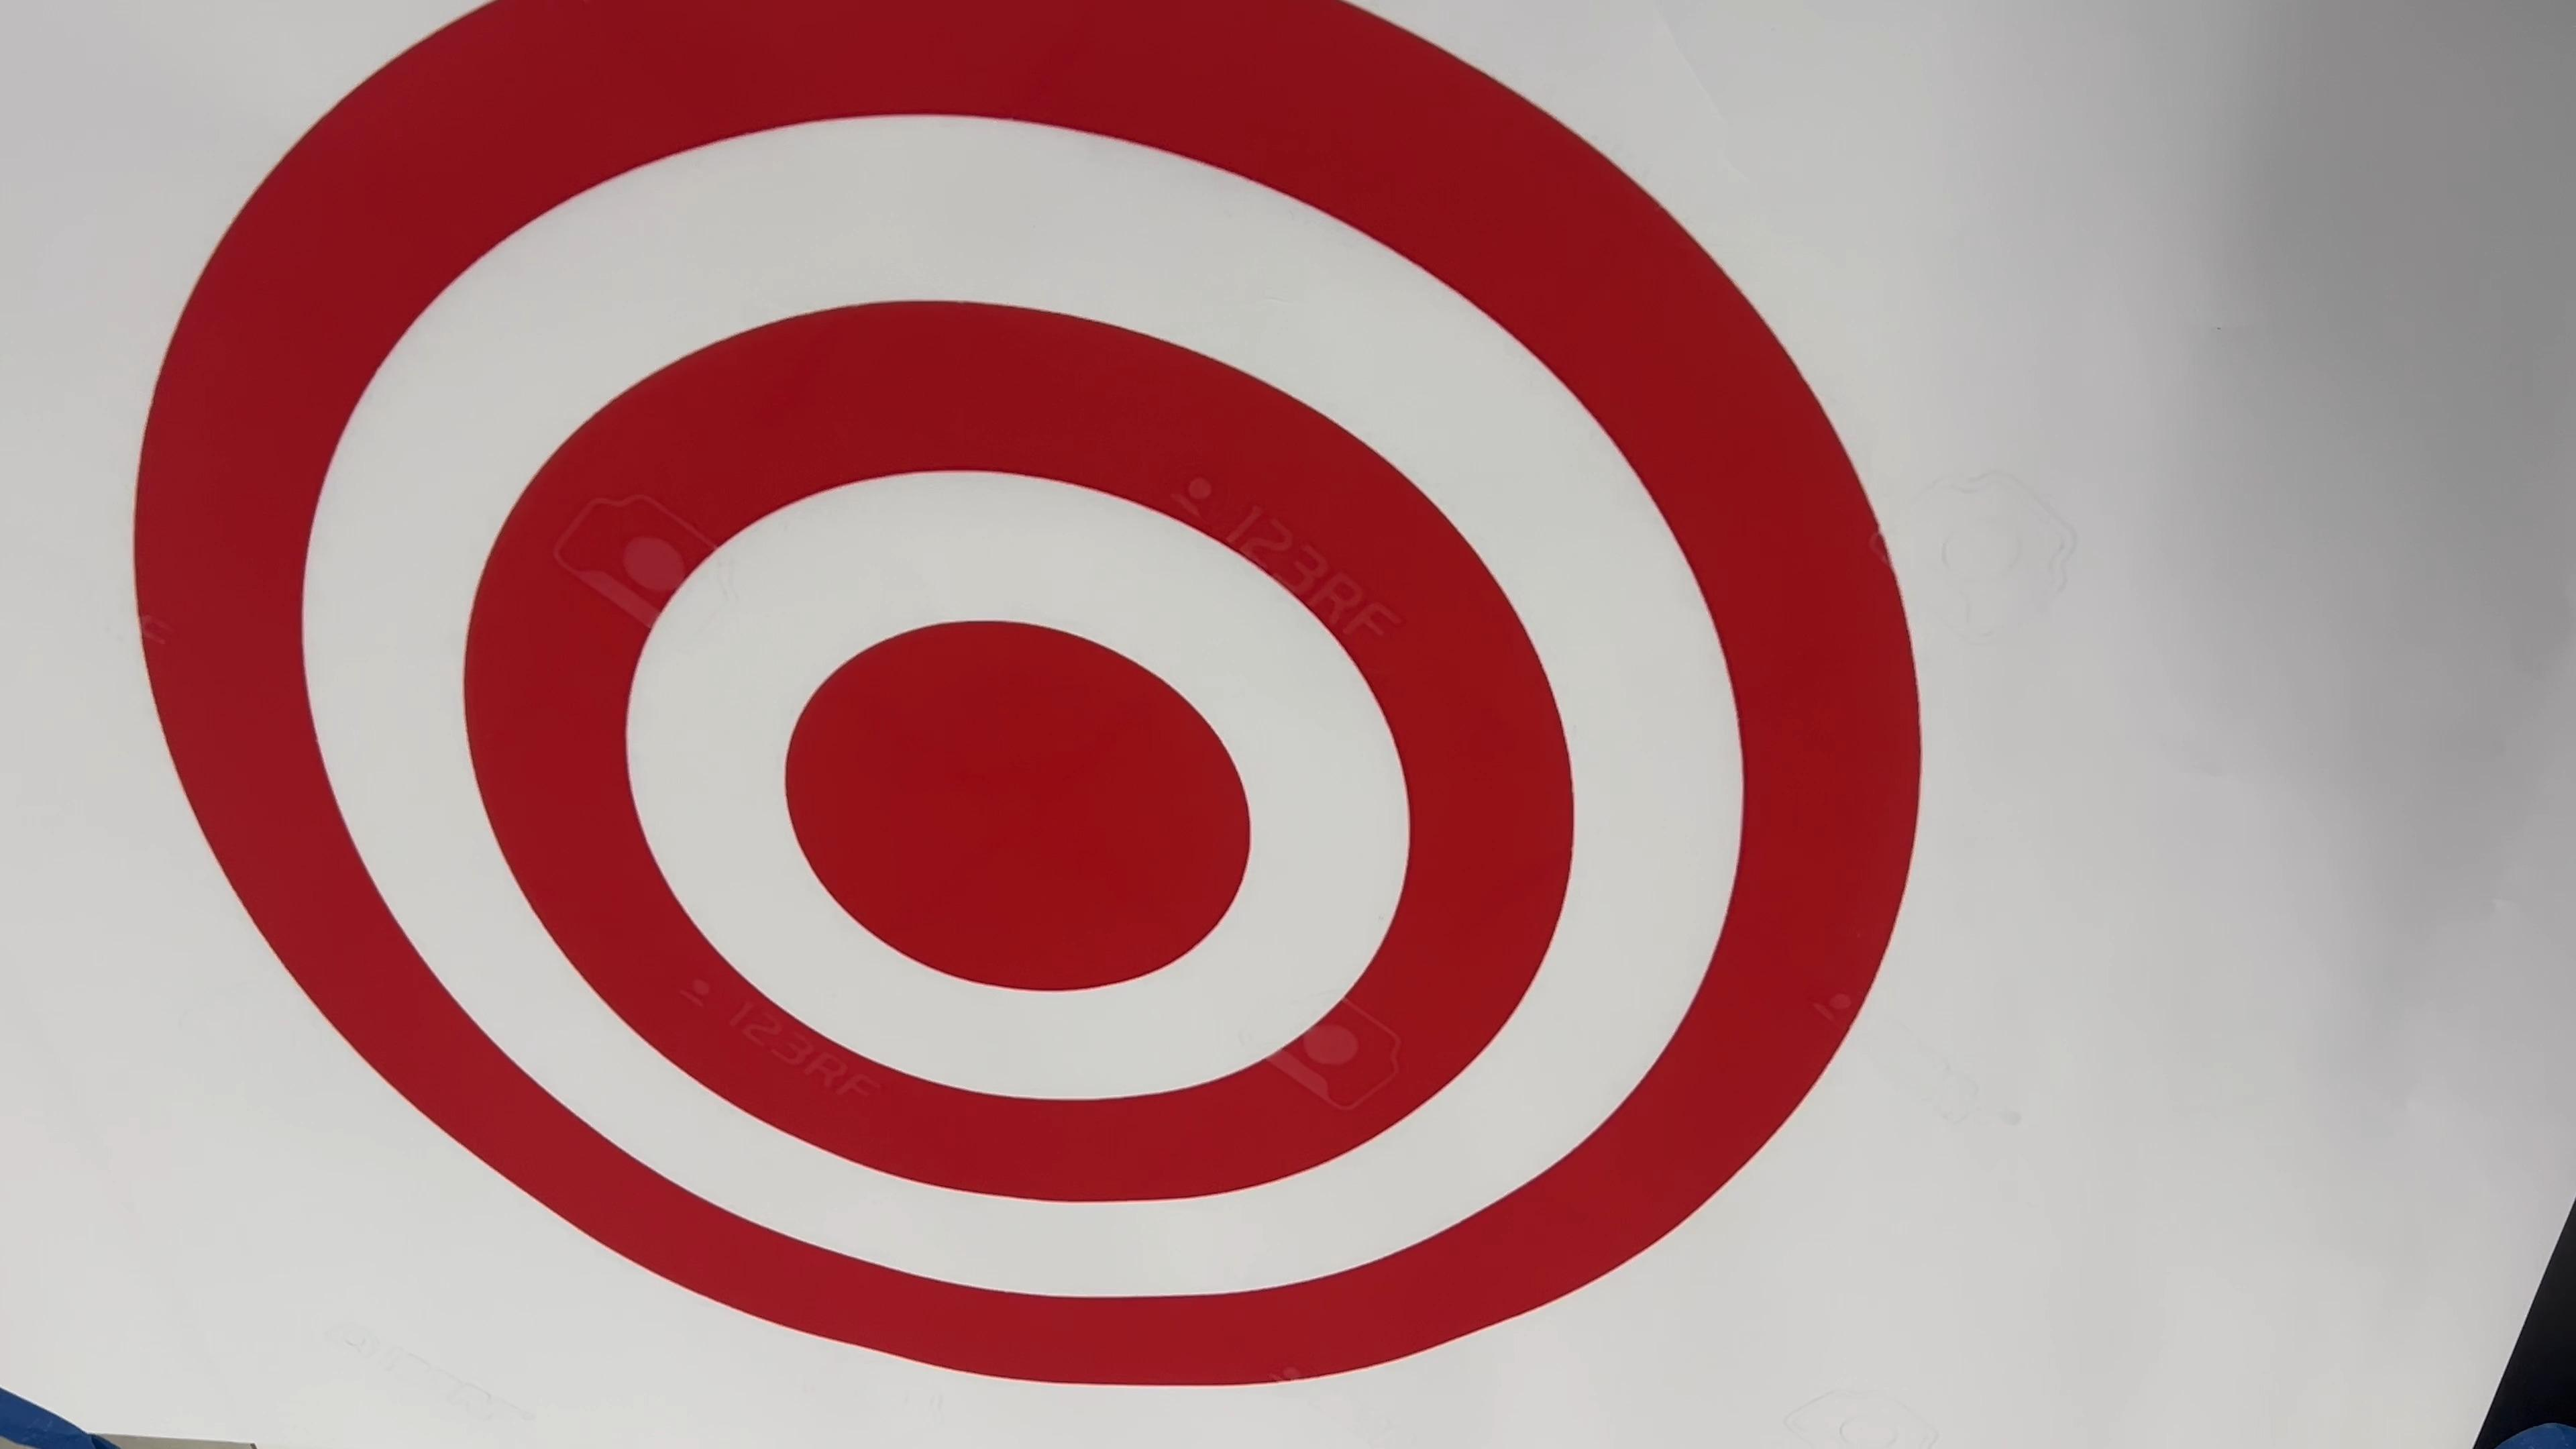target_red: (41, 0, 1994, 1385)
